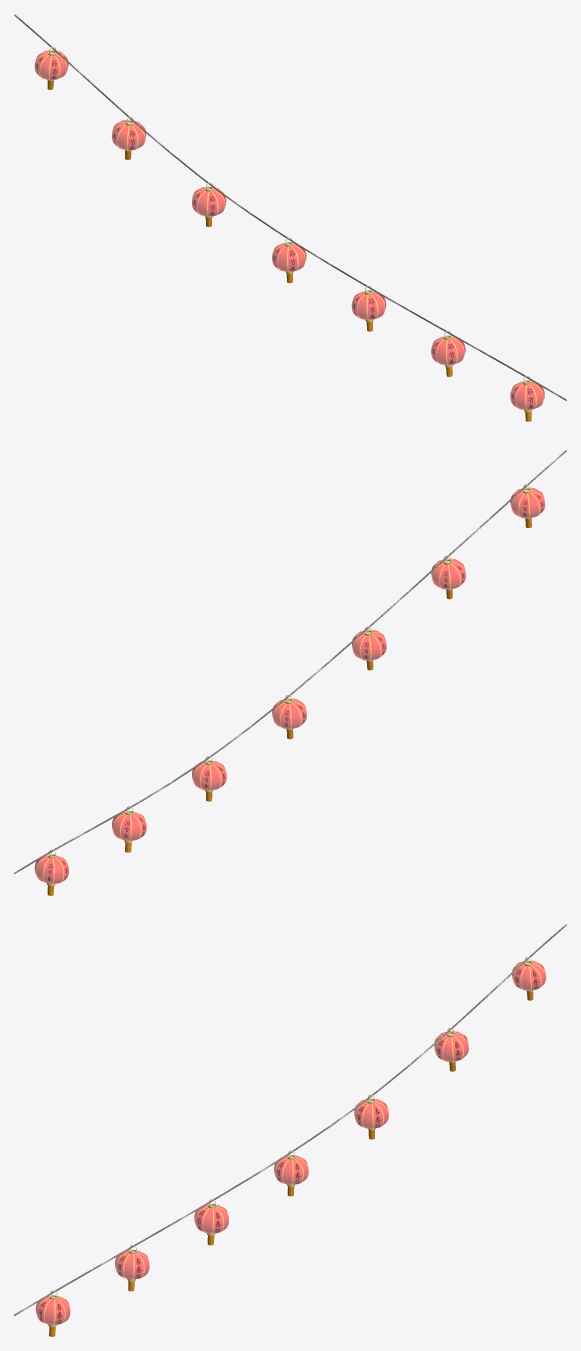
File: SM_lamp_spline_Splines_28.fbx
3 views of the same model, one above another, from view 1: azimuth 30°, elevation 25°; view 2: azimuth 150°, elevation 25°; view 3: azimuth 330°, elevation 25° (orthographic).
Visible parts, largest first — view 1: SM_lamp_spline_Splines_28; view 2: SM_lamp_spline_Splines_28; view 3: SM_lamp_spline_Splines_28.
Part boxes in pixels (x1,y1,x2,y2): SM_lamp_spline_Splines_28: (14, 14, 566, 421); SM_lamp_spline_Splines_28: (14, 450, 566, 895); SM_lamp_spline_Splines_28: (14, 924, 566, 1336).
Size of the model in its own units: 57.53 by 1734 by 150.
